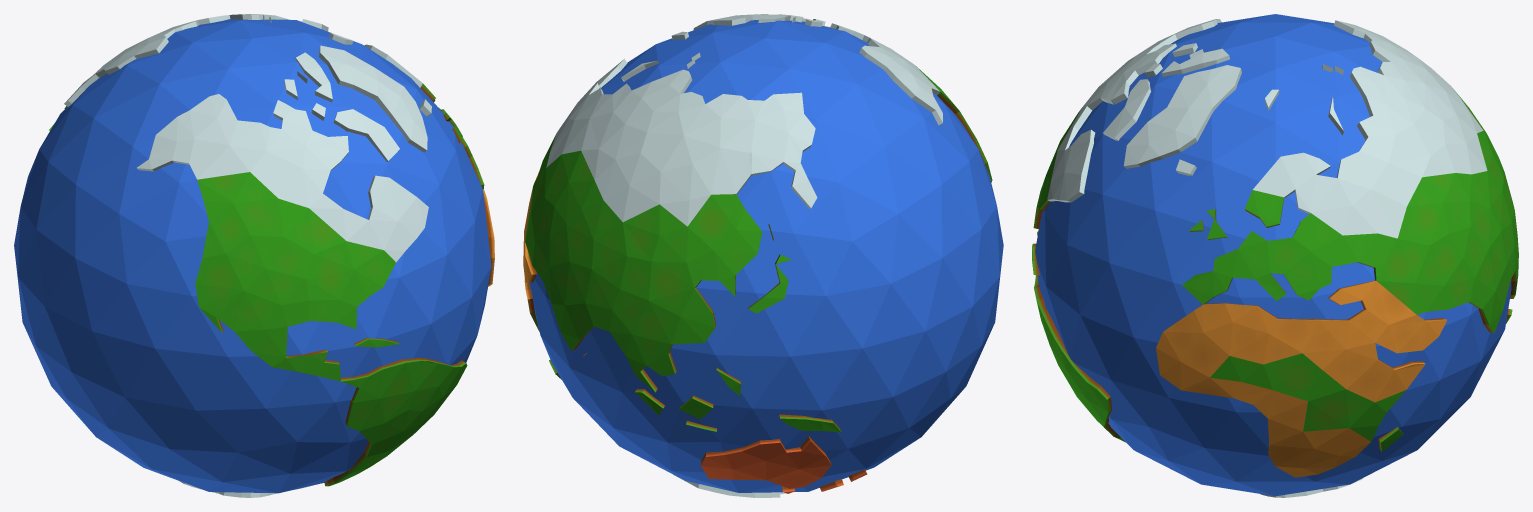
File: Earth.glb
The picture shows the model from 3 angles, left to right: view 1: azimuth 30°, elevation 25°; view 2: azimuth 150°, elevation 25°; view 3: azimuth 270°, elevation 25°; orthographic projection.
Visible parts, largest first — view 1: Earth; view 2: Earth; view 3: Earth.
Part boxes in pixels (x1,y1,x2,y2): Earth: [14, 14, 494, 497]; Earth: [523, 14, 1003, 497]; Earth: [1032, 14, 1518, 497].
Size of the model in its own units: 2.1 by 2.1 by 2.11.
Materials: 2 (1 with a texture image).
